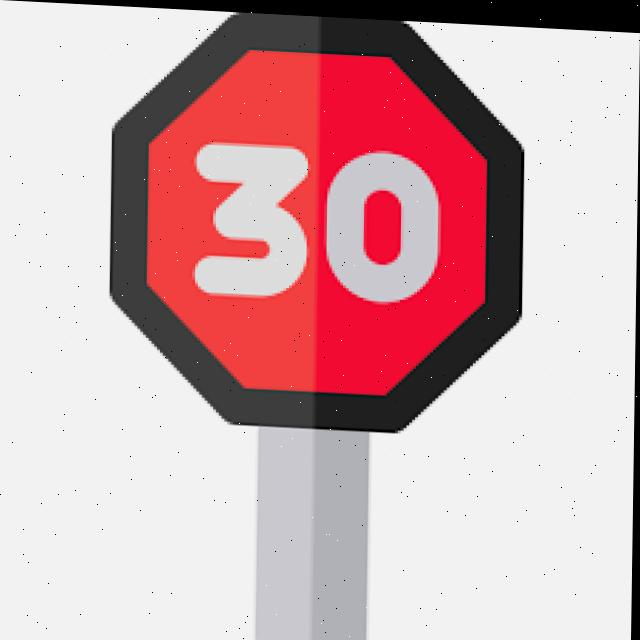Speed limit 30: (104, 5, 530, 438)
